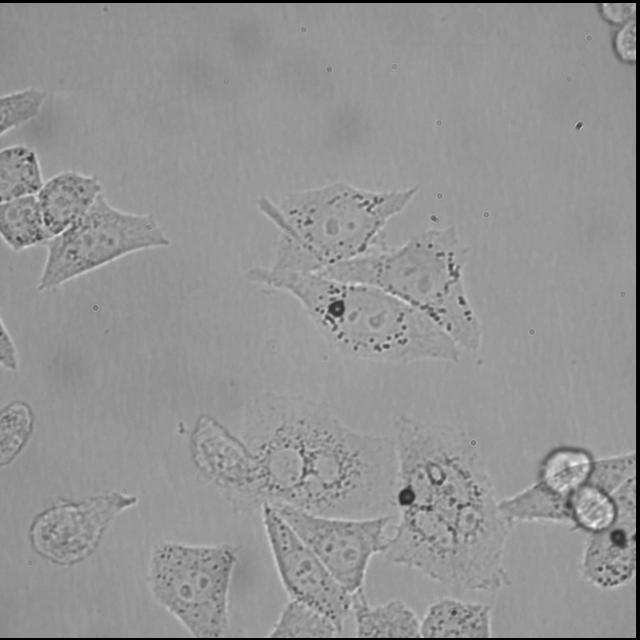microbeads: (394, 484, 418, 506), (326, 298, 346, 316)
